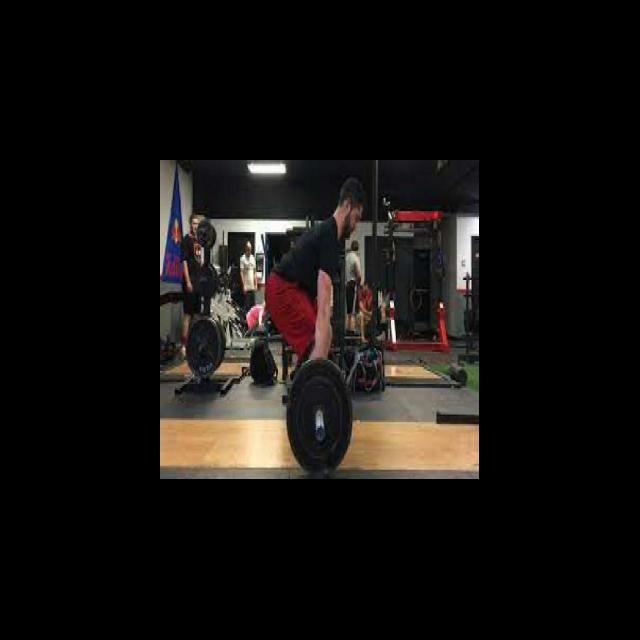barbell: (285, 355, 355, 479)
